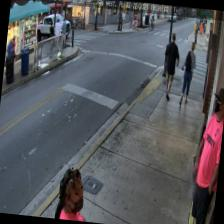person: (187, 85, 224, 224), (54, 166, 92, 222), (160, 32, 182, 100), (177, 41, 199, 106)
